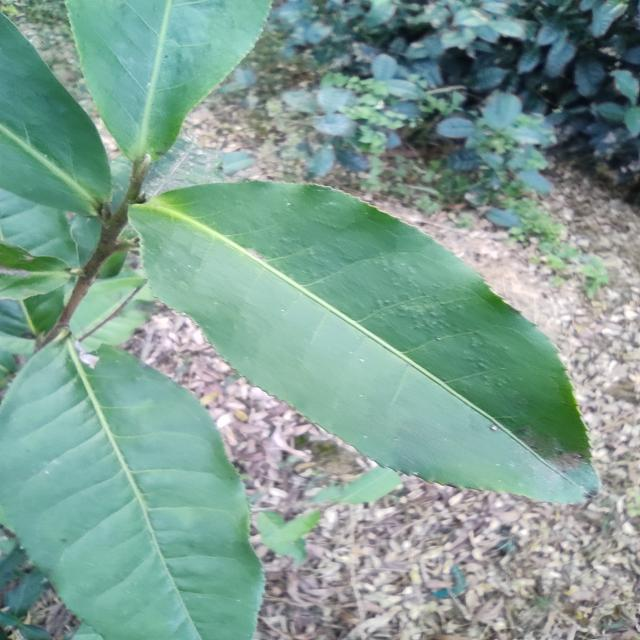Category D(7+ days, Not for Tea): (120, 170, 626, 532)
